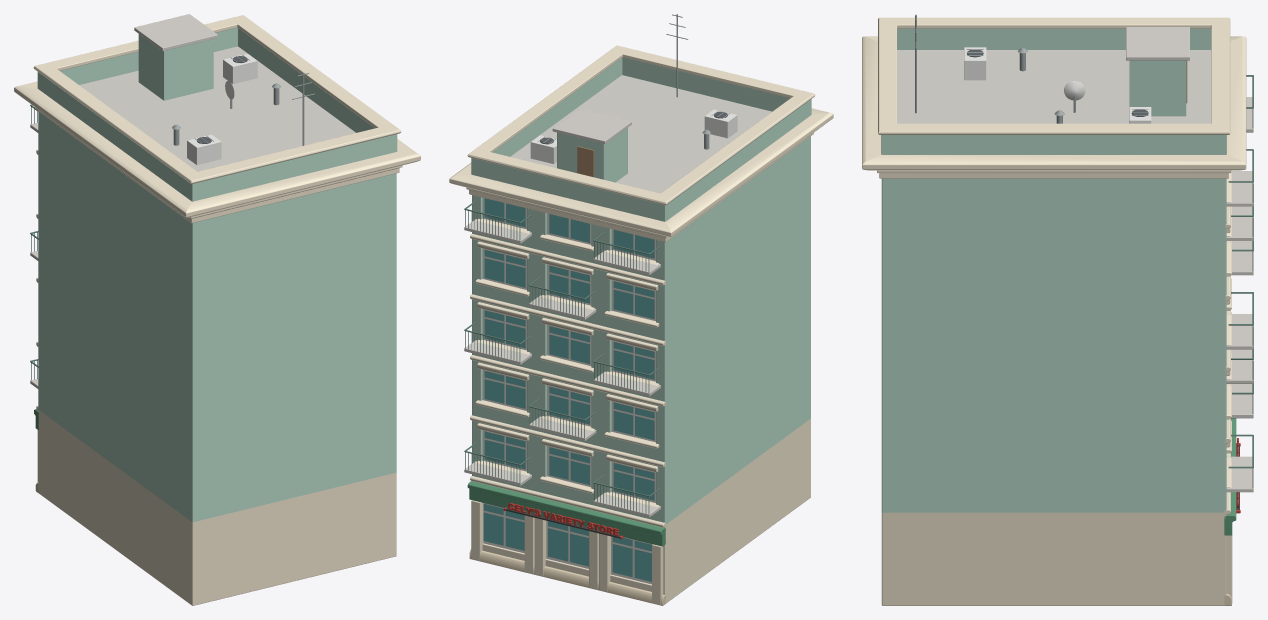
File: far_shophouse_11.glb
The picture shows the model from 3 angles, left to right: view 1: azimuth 30°, elevation 25°; view 2: azimuth 150°, elevation 25°; view 3: azimuth 270°, elevation 25°; orthographic projection. The views are drawn at different scales.
Visible parts, largest first — view 1: shell, trim, props; view 2: shell, trim, props, frames, sign_cely_s_variety_store_text; view 3: shell, trim, props.
Boxes of the visible parts, <box> form: shell: <box>38,46,396,605</box>; trim: <box>14,15,420,493</box>; props: <box>30,14,314,388</box>; shell: <box>472,75,810,603</box>; trim: <box>449,45,833,605</box>; props: <box>464,14,737,517</box>; frames: <box>482,198,655,584</box>; sign_cely_s_variety_store_text: <box>508,503,618,535</box>; shell: <box>881,50,1226,605</box>; trim: <box>862,17,1246,605</box>; props: <box>915,14,1253,492</box>.
Bounding box in the file's own units: 12.3 × 24.58 × 15.91.
